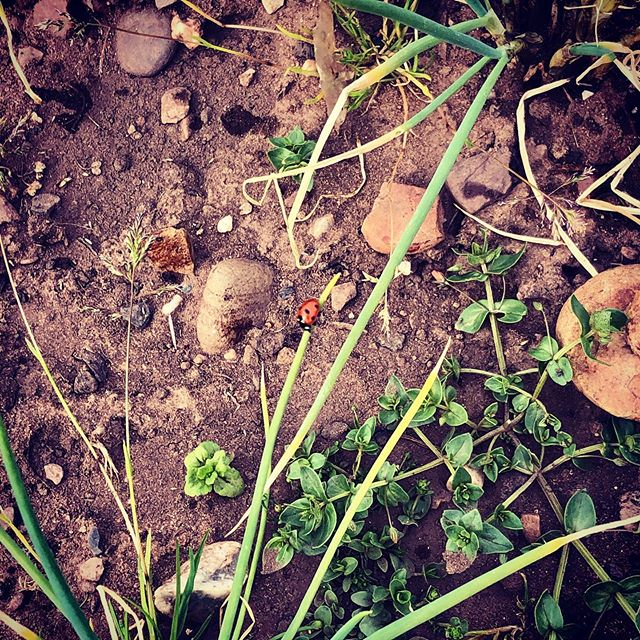insect: (287, 294, 333, 341)
vegetation: (11, 15, 640, 640)
